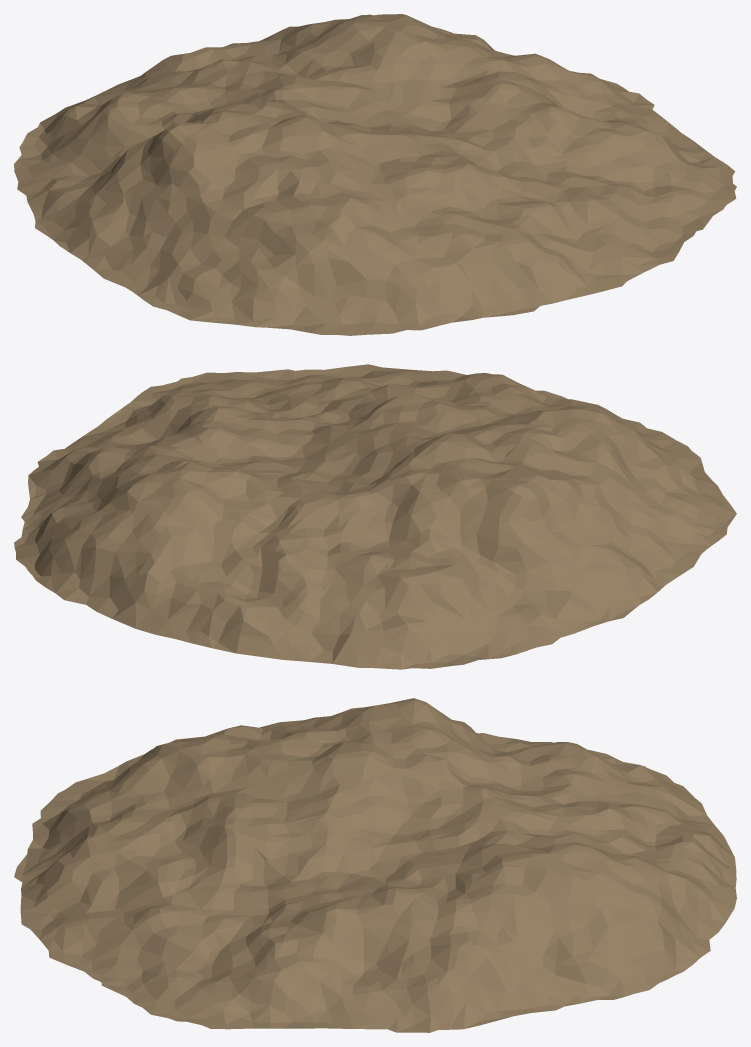
Rendered from LargeTerrain08.fbx.
3 renders of one model, top to bottom at view 1: azimuth 30°, elevation 25°; view 2: azimuth 150°, elevation 25°; view 3: azimuth 270°, elevation 25°, orthographic. The views are drawn at different scales.
Visible parts, largest first — view 1: LargeTerrain08; view 2: LargeTerrain08; view 3: LargeTerrain08.
Part boxes in pixels (x1,y1,x2,y2): LargeTerrain08: [14, 14, 736, 335]; LargeTerrain08: [14, 364, 736, 669]; LargeTerrain08: [14, 698, 736, 1032].
Bounding box in the file's own units: 101 × 14.49 × 102.
